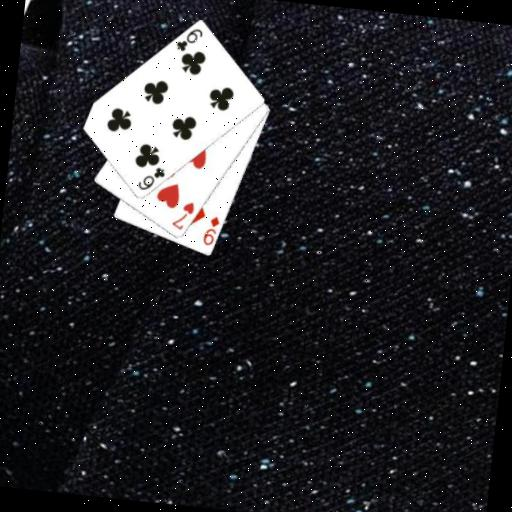6C: (135, 162, 168, 194), (173, 24, 206, 55)
7H: (168, 197, 197, 233)
9D: (200, 213, 222, 249)
